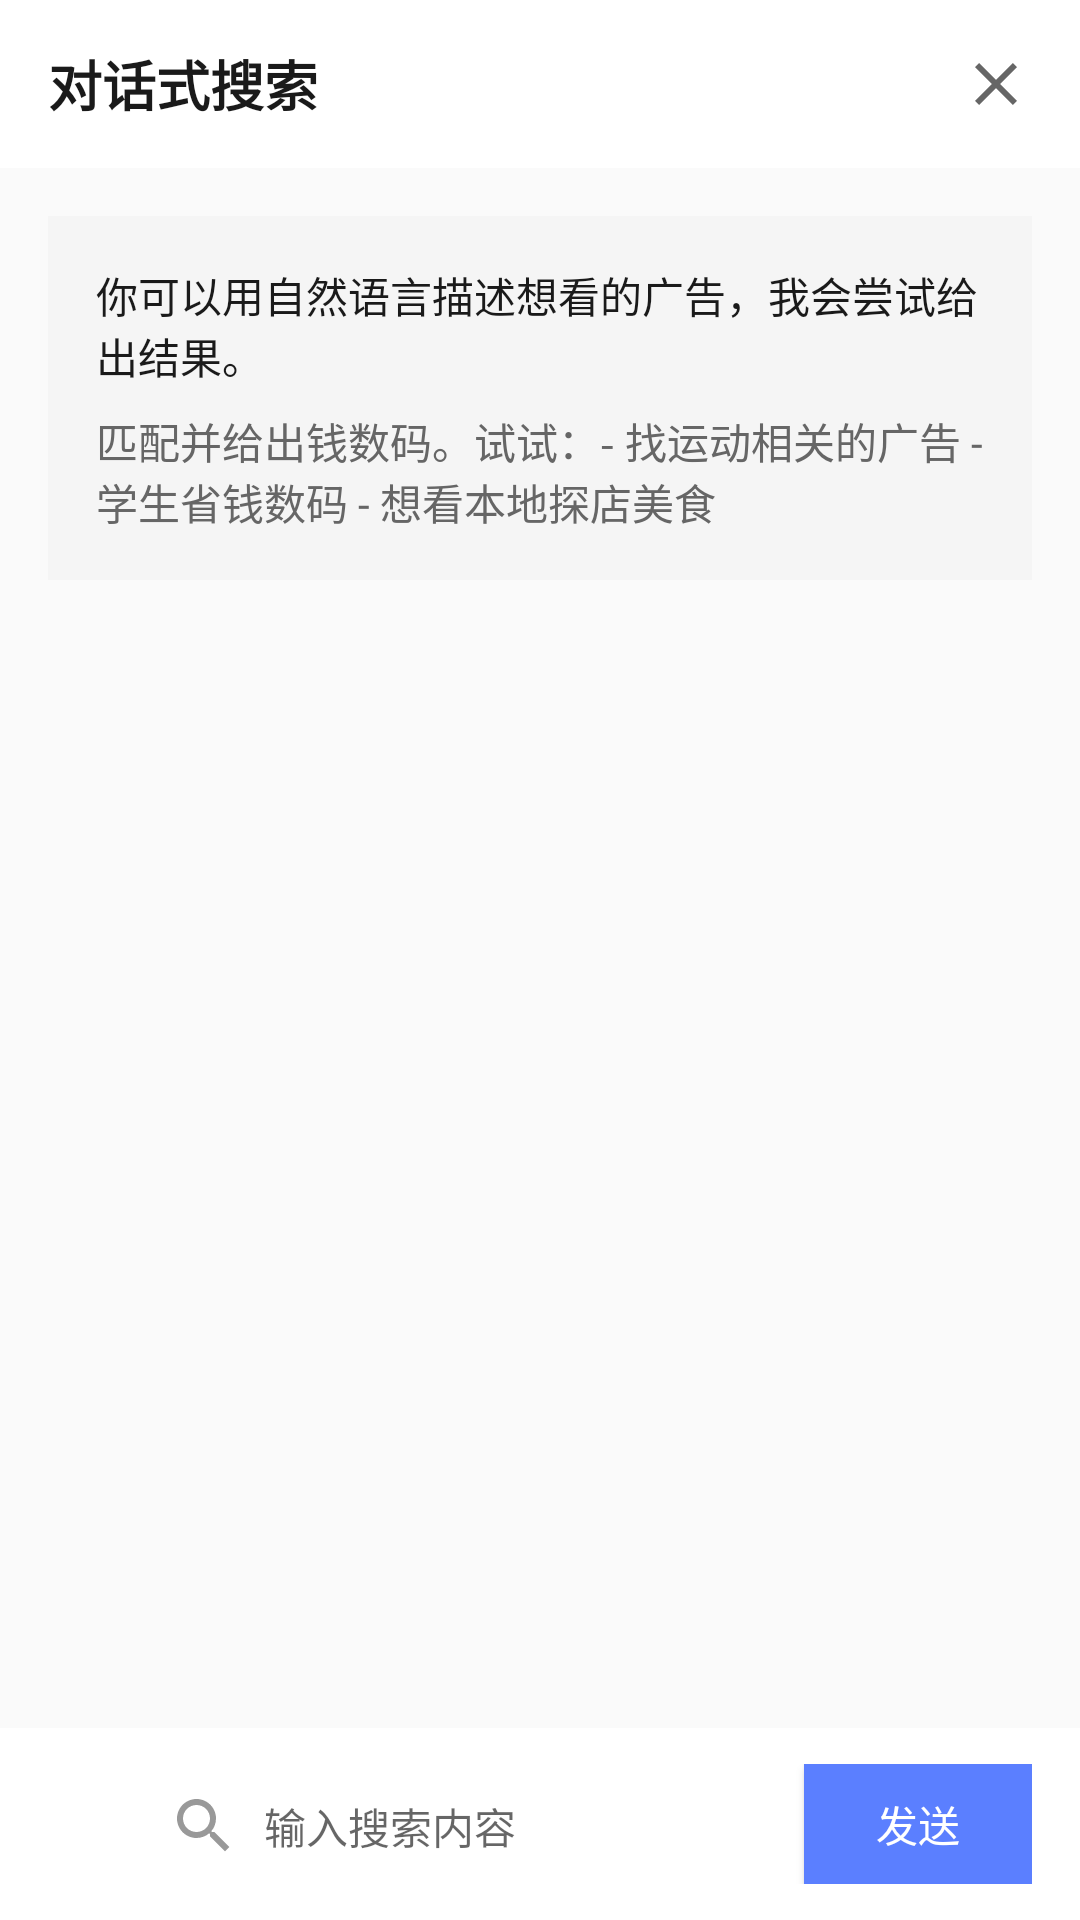

Where icons sit on this 1080w x 1920h app screen, as [x1, y1, x2, y2]:
close: [975, 63, 1017, 105]
